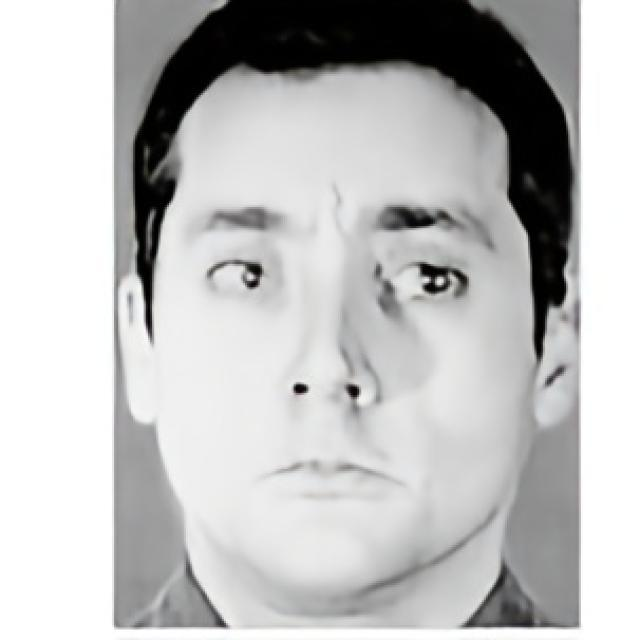sad: (147, 58, 538, 598)
